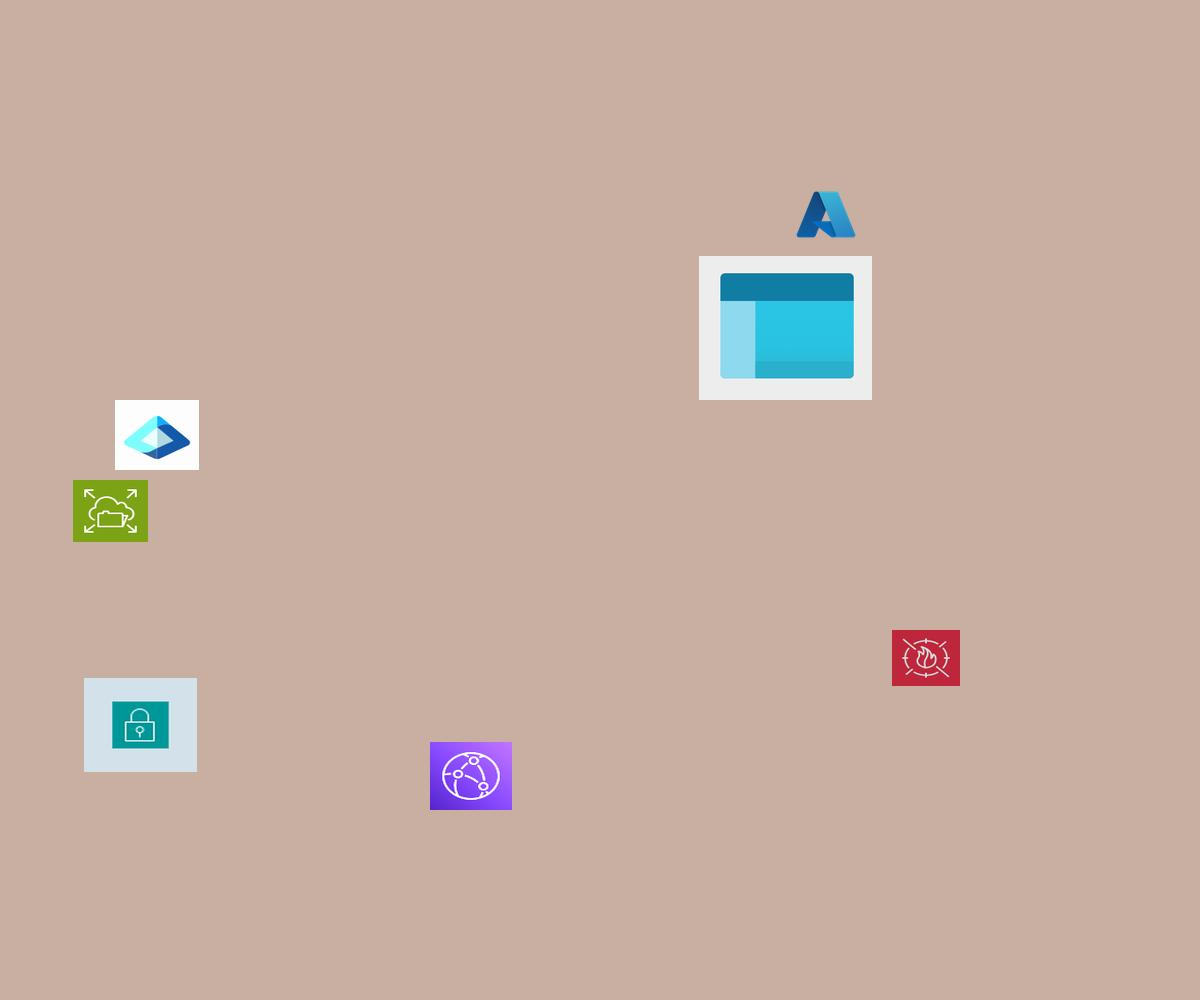AWS-CloudFront: (430, 742, 512, 810)
AWS-EFS: (73, 480, 148, 542)
AWS-Private-subnet: (84, 678, 197, 772)
AWS-WAF: (892, 630, 960, 686)
Azure_management-portal: (699, 256, 872, 400)
Azure_microsoft_entra: (115, 400, 199, 470)
Azure_services: (794, 188, 858, 241)
